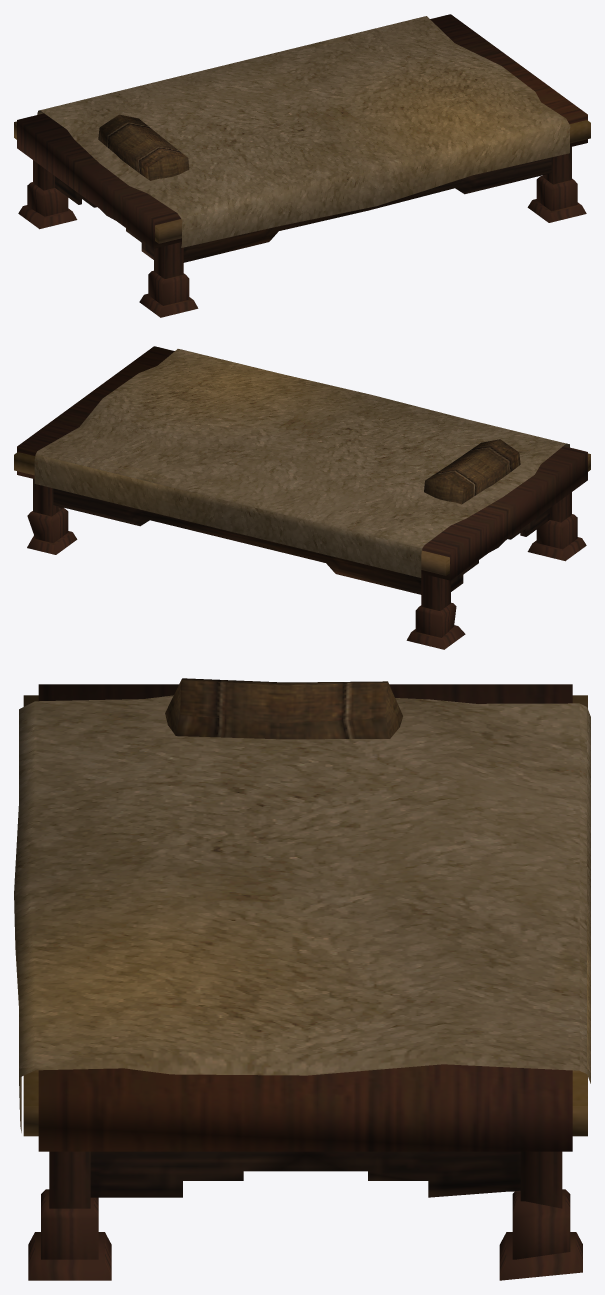
The model's file is daliang_field_a_s05e.fbx.
3 views of the same model, one above another, from view 1: azimuth 30°, elevation 25°; view 2: azimuth 150°, elevation 25°; view 3: azimuth 270°, elevation 25° (orthographic). The views are drawn at different scales.
Visible parts, largest first — view 1: daliang_field_a_s05e; view 2: daliang_field_a_s05e; view 3: daliang_field_a_s05e.
Part boxes in pixels (box(x1,y1,x2,y2)): daliang_field_a_s05e: box(14, 14, 590, 317); daliang_field_a_s05e: box(14, 346, 590, 649); daliang_field_a_s05e: box(14, 678, 590, 1280).
Bounding box in the file's own units: 346 × 94.18 × 205.
